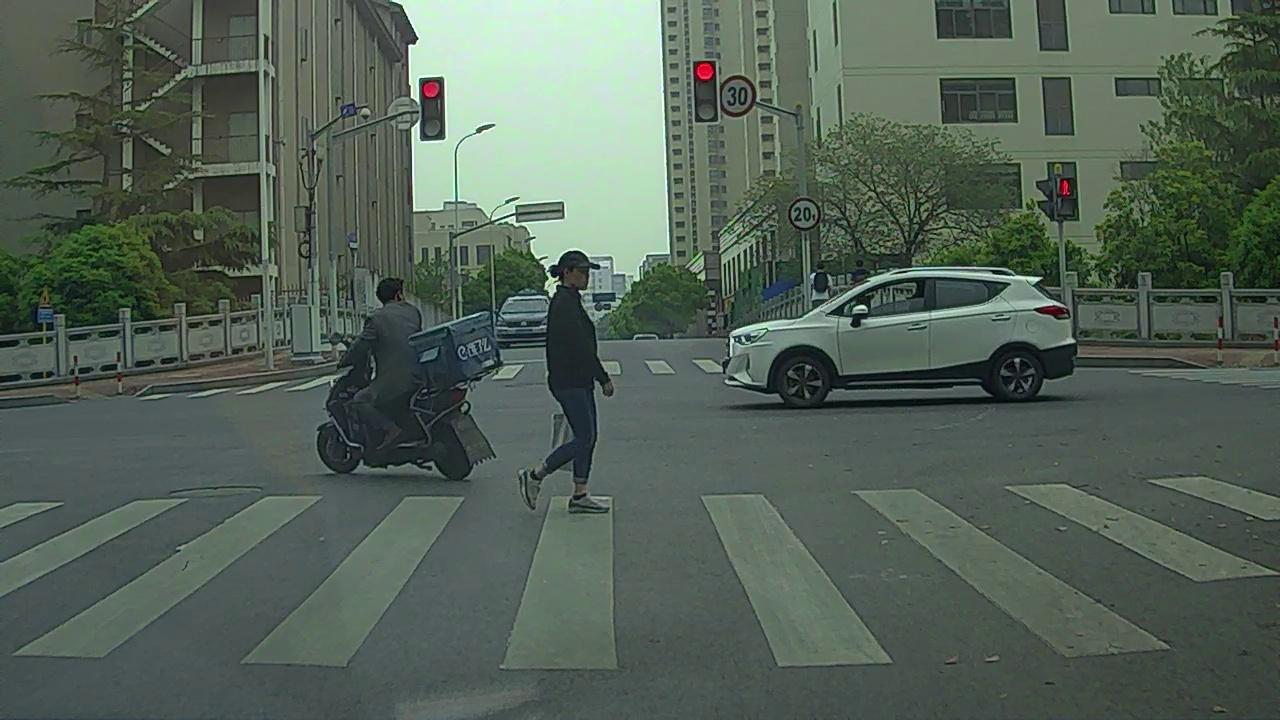traffic_light: (691, 61, 718, 121), (420, 79, 444, 139)
